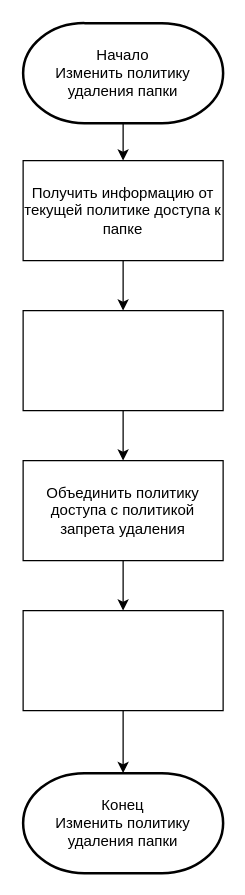
Some shapes in this 245 by 895 pixel diagram are drawn without their labels. The centre of each missing label's shape, as x and y in pixels:
"Создать политику запрета удаления для всех пользователей" belongs at point 122,360.
"Установить политику доступа к папке" belongs at point 122,660.
